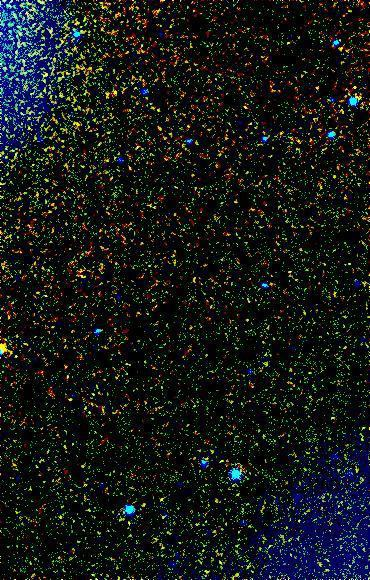star: (337, 71, 367, 101)
